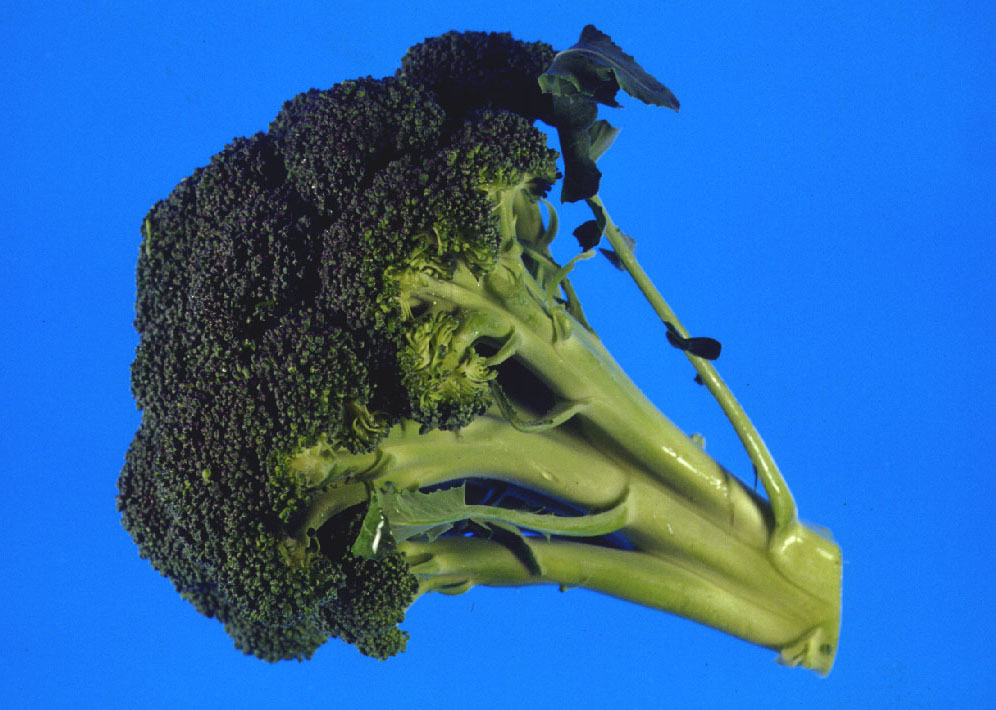broccoli: (110, 26, 841, 685)
